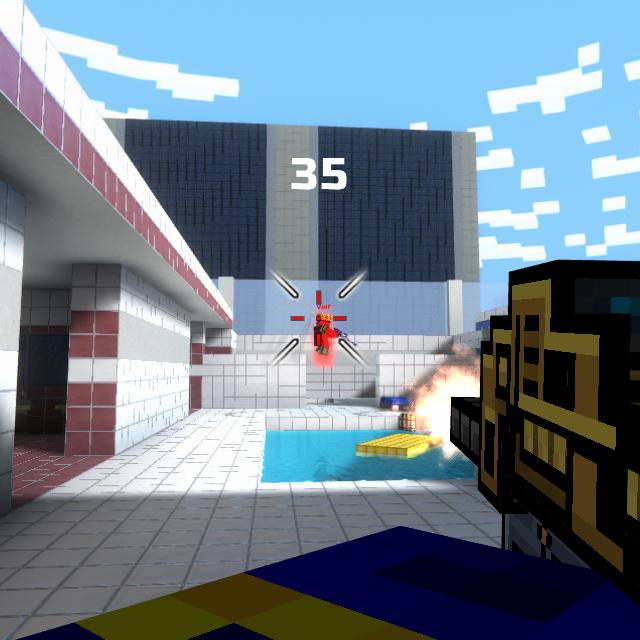Enemy: (315, 312, 338, 356)
